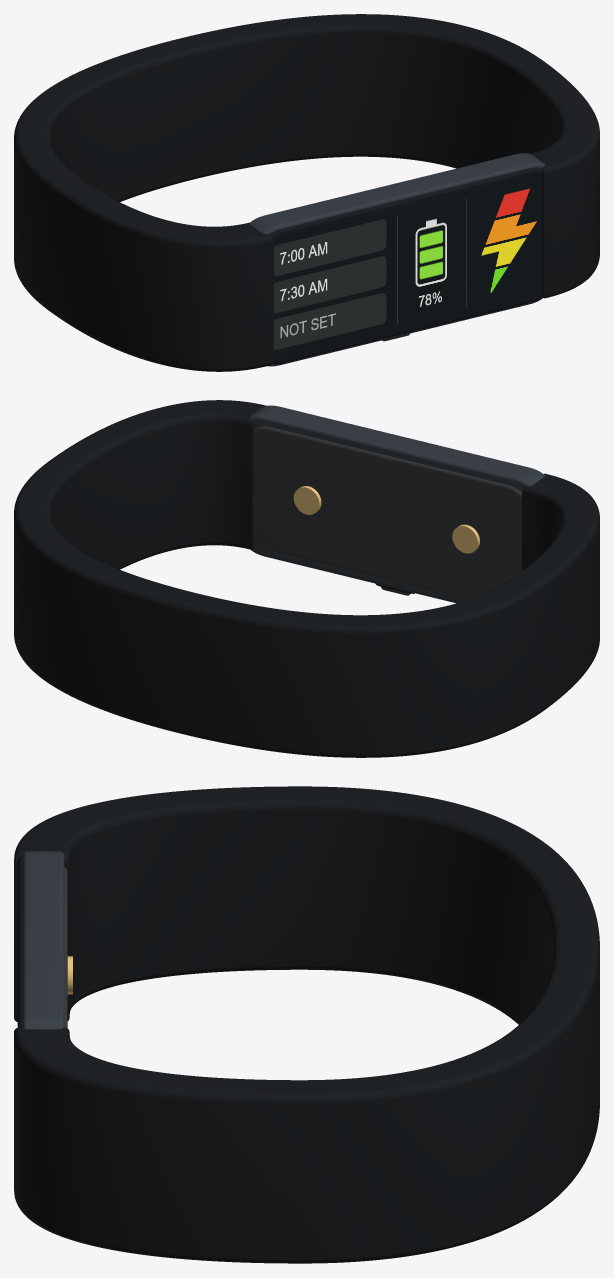
3 renders of one model, top to bottom at view 1: azimuth 30°, elevation 25°; view 2: azimuth 150°, elevation 25°; view 3: azimuth 270°, elevation 25°, orthographic. The views are drawn at different scales.
Visible parts, largest first — view 1: Silicone side attached bracelet, Three alarms · battery · zap gauge, Removable module, Black glass bezel; view 2: Silicone side attached bracelet, Underside plate, Removable module, Left underside contact, Right underside contact; view 3: Silicone side attached bracelet, Removable module, Black glass bezel, Underside plate.
Boxes of the visible parts, x1,y1,x2,y2 form: Silicone side attached bracelet: (14, 14, 599, 371); Three alarms · battery · zap gauge: (274, 176, 542, 357); Removable module: (249, 153, 545, 366); Black glass bezel: (269, 167, 542, 364); Silicone side attached bracelet: (14, 400, 599, 757); Underside plate: (253, 426, 521, 599); Removable module: (249, 405, 545, 603); Left underside contact: (452, 524, 479, 553); Right underside contact: (293, 486, 321, 514); Silicone side attached bracelet: (14, 786, 599, 1263); Removable module: (22, 851, 64, 1029); Black glass bezel: (17, 856, 22, 1027); Underside plate: (64, 867, 67, 1028).
Size of the model in its own units: 0.0818 by 0.0234 by 0.0647.
7 materials, 1 textured.
